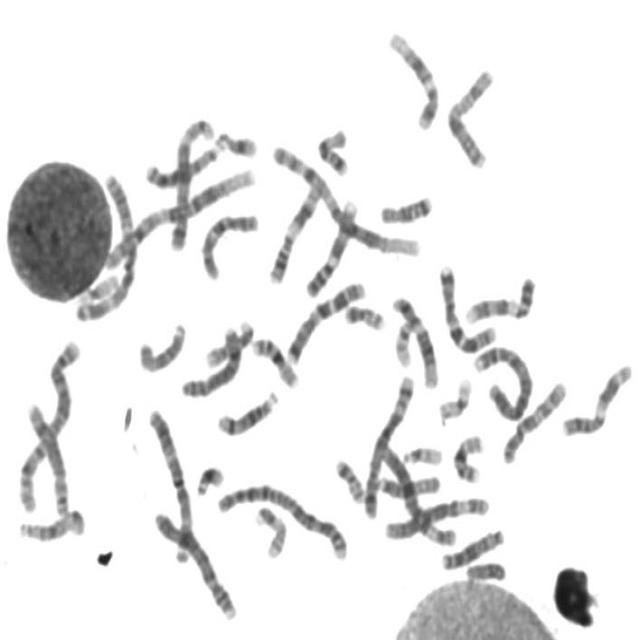A1: (266, 137, 423, 258), (99, 159, 258, 271)
A2: (12, 332, 82, 514), (210, 476, 350, 561)
A3: (70, 165, 140, 325), (143, 402, 195, 566)
B4: (148, 503, 239, 622), (467, 337, 535, 423)
B5: (358, 367, 417, 521), (164, 109, 218, 252)
C10: (496, 372, 569, 467), (195, 204, 261, 281)
C11: (264, 177, 324, 286), (556, 356, 635, 438)
C12: (383, 22, 441, 132), (387, 288, 439, 391)
C6: (376, 440, 459, 548), (379, 489, 492, 541)
C7: (281, 274, 368, 366), (434, 258, 499, 354)
C8: (21, 395, 71, 518), (176, 316, 245, 399)
C9: (300, 192, 361, 299), (459, 269, 538, 326)
D13: (139, 136, 222, 190), (437, 522, 505, 572)
D14: (212, 383, 280, 438), (12, 502, 86, 542)
D15: (133, 315, 187, 375), (371, 466, 442, 501)
E16: (247, 330, 300, 390), (448, 427, 486, 484)
E17: (199, 313, 255, 370), (250, 498, 290, 560)
E18: (374, 188, 434, 226), (312, 121, 351, 178)
F19: (433, 371, 474, 423), (75, 273, 119, 308)
F20: (330, 451, 367, 505), (339, 296, 387, 333)
G21: (212, 124, 260, 160), (191, 458, 225, 497)
G22: (388, 312, 416, 368), (398, 438, 444, 466)
X: (441, 61, 496, 170)
Y: (461, 554, 508, 584)
